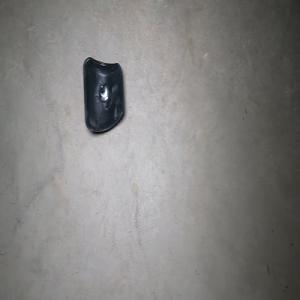LuggagePart: (82, 55, 125, 134)
